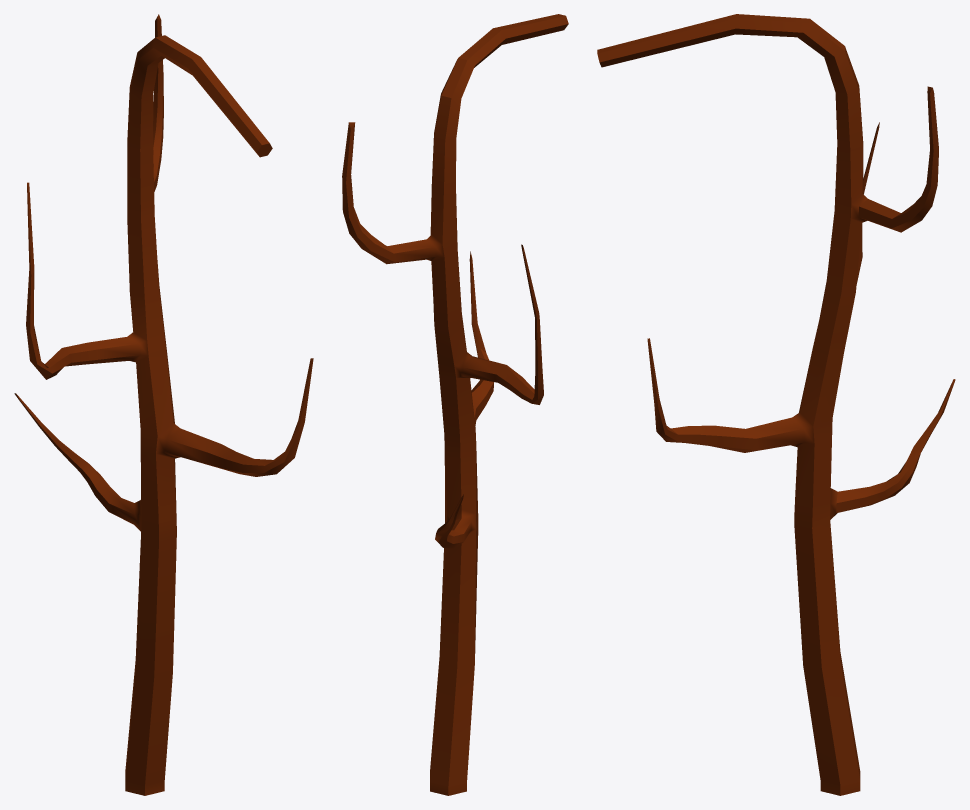
Rendered from TrunkBranch6.obj.
3 views of the same model, side by side, from view 1: azimuth 30°, elevation 25°; view 2: azimuth 150°, elevation 25°; view 3: azimuth 270°, elevation 25° (orthographic). The views are drawn at different scales.
Parts seen in each view (by area): view 1: Trunk; view 2: Trunk; view 3: Trunk.
Part boxes in pixels (left/top/right/bottom): Trunk: left=14, top=14, right=313, bottom=795; Trunk: left=342, top=14, right=568, bottom=795; Trunk: left=597, top=14, right=955, bottom=795.
Bounding box in the file's own units: 1.84 × 7.43 × 3.13.
